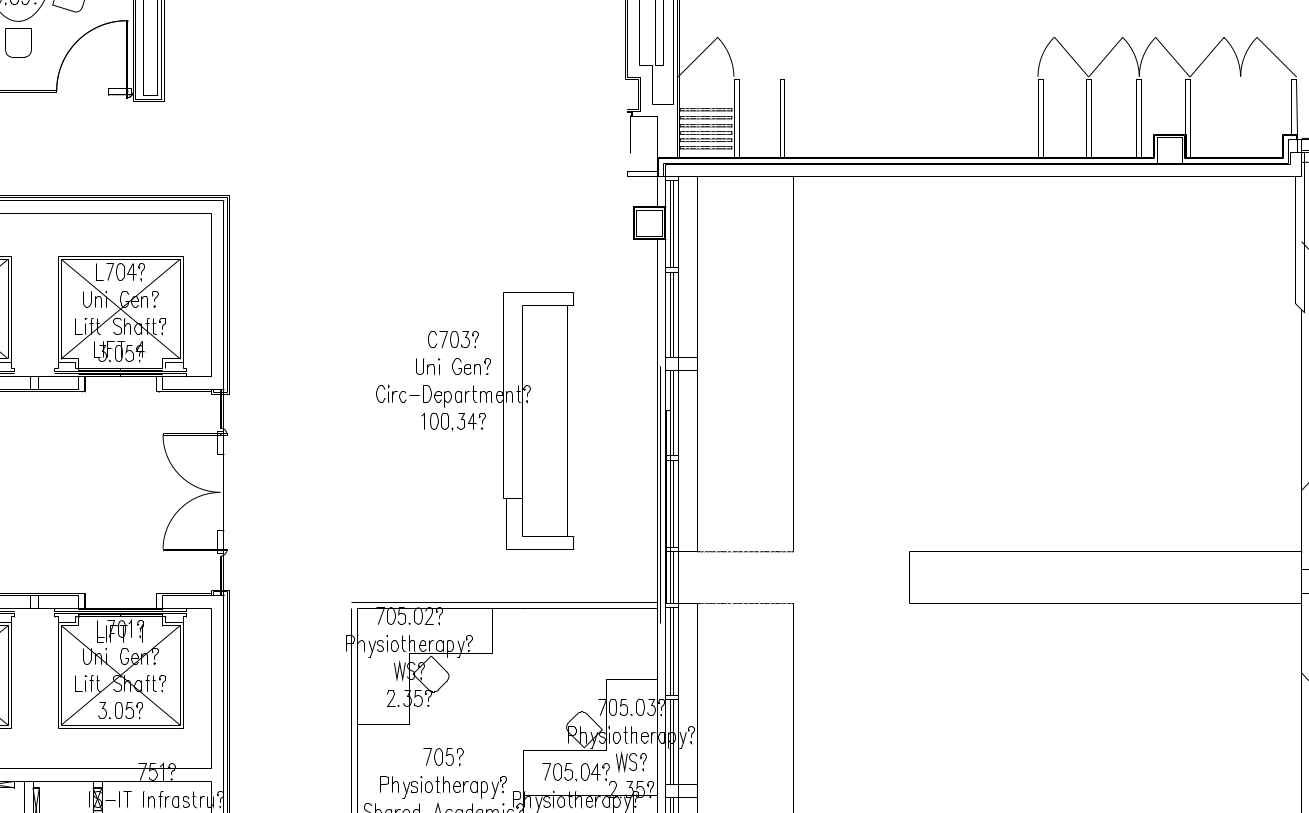door: (158, 429, 227, 555), (50, 12, 130, 104), (1034, 28, 1140, 78), (1139, 27, 1241, 78)
